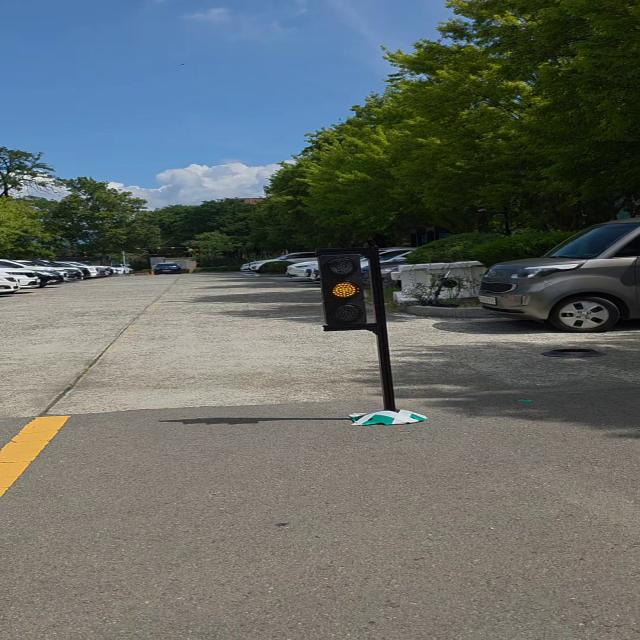yellow: (314, 255, 375, 331)
